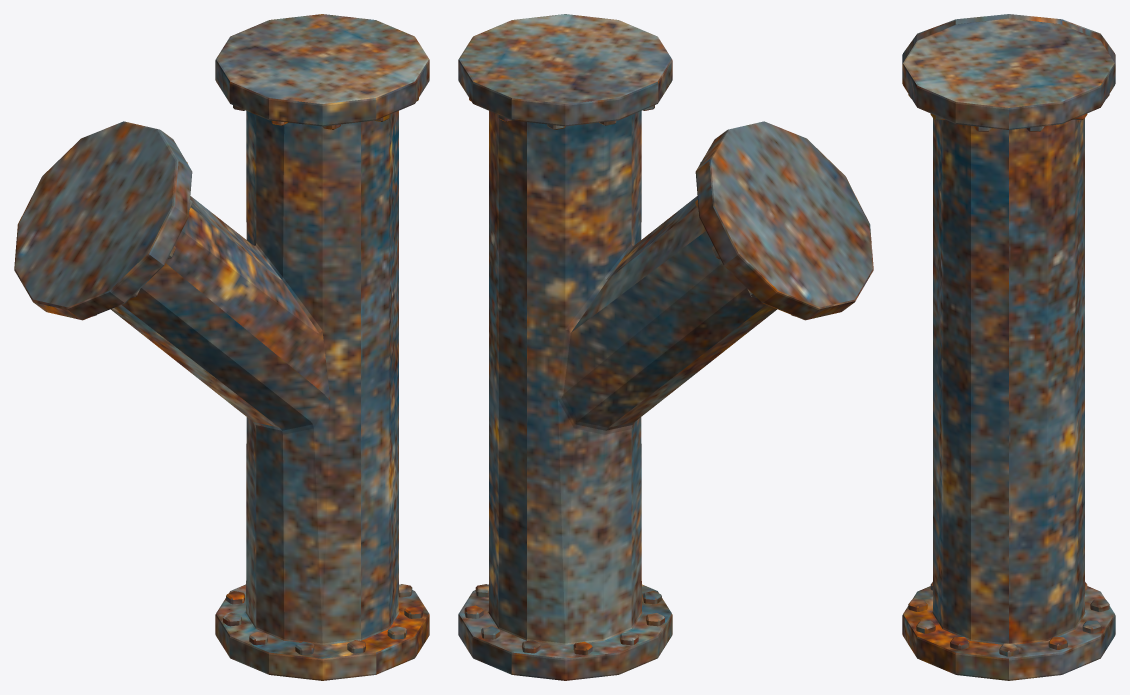
Rendered from pipe.04.fbx.
3 renders of one model, left to right at view 1: azimuth 30°, elevation 25°; view 2: azimuth 150°, elevation 25°; view 3: azimuth 270°, elevation 25°, orthographic.
Parts seen in each view (by area): view 1: Pipe.04; view 2: Pipe.04; view 3: Pipe.04.
Boxes of the visible parts, bbox=[...] form: Pipe.04: bbox=[14, 14, 429, 680]; Pipe.04: bbox=[458, 14, 873, 680]; Pipe.04: bbox=[902, 14, 1115, 680].
Size of the model in its own units: 115 by 166 by 55.99.
